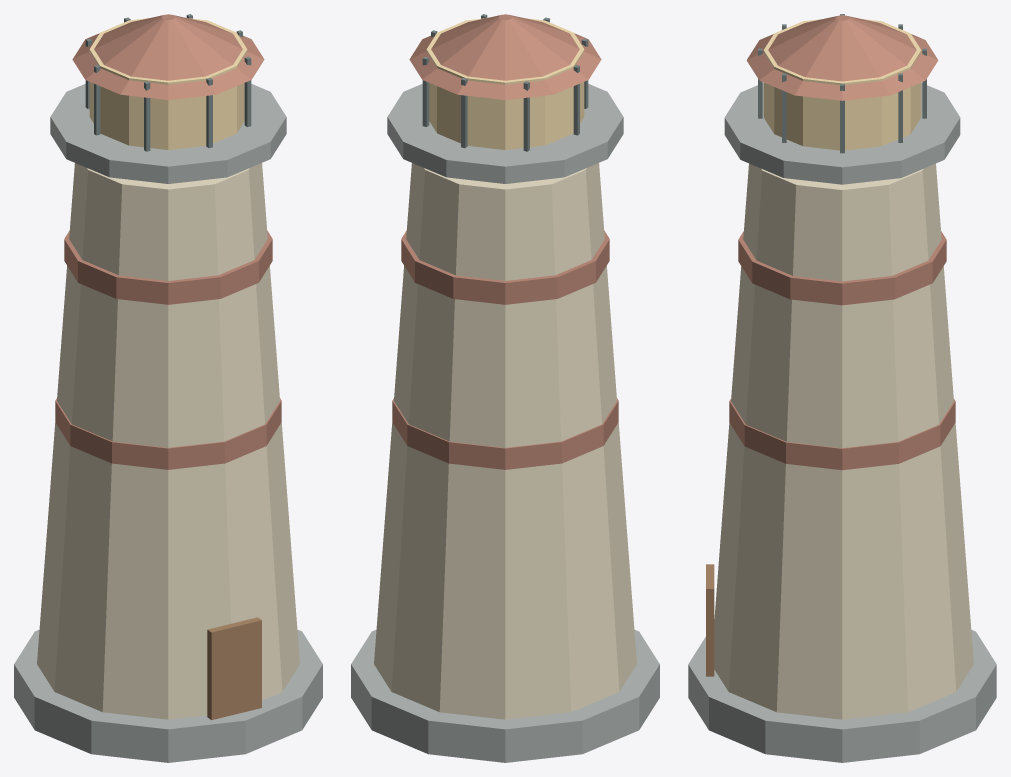
Rendered from lighthouse.glb.
3 views of the same model, side by side, from view 1: azimuth 30°, elevation 25°; view 2: azimuth 150°, elevation 25°; view 3: azimuth 270°, elevation 25° (orthographic).
Visible parts, largest first — view 1: Lighthouse tower, Lighthouse stone base, Beacon cap, Lantern gallery, Beacon glass, Coral lighthouse stripe.002, Coral lighthouse stripe.001, Lighthouse door; view 2: Lighthouse tower, Lighthouse stone base, Beacon cap, Lantern gallery, Beacon glass, Coral lighthouse stripe.002, Coral lighthouse stripe.001; view 3: Lighthouse tower, Lighthouse stone base, Beacon cap, Lantern gallery, Beacon glass, Coral lighthouse stripe.002, Coral lighthouse stripe.001, Lighthouse door.
Boxes of the visible parts, box(x1,y1,x2,y2) form: Lighthouse tower: box(37, 163, 299, 719); Lighthouse stone base: box(14, 629, 322, 762); Beacon cap: box(72, 14, 264, 99); Lantern gallery: box(50, 84, 286, 183); Beacon glass: box(89, 18, 247, 149); Coral lighthouse stripe.002: box(64, 231, 272, 304); Coral lighthouse stripe.001: box(55, 398, 281, 469); Lighthouse door: box(207, 617, 261, 720); Lighthouse tower: box(374, 163, 636, 719); Lighthouse stone base: box(351, 629, 659, 762); Beacon cap: box(409, 14, 601, 99); Lantern gallery: box(387, 84, 623, 183); Beacon glass: box(426, 18, 584, 149); Coral lighthouse stripe.002: box(401, 231, 609, 304); Coral lighthouse stripe.001: box(392, 398, 618, 469); Lighthouse tower: box(714, 163, 973, 719); Lighthouse stone base: box(688, 630, 996, 762); Beacon cap: box(746, 15, 938, 100); Lantern gallery: box(724, 83, 960, 184); Beacon glass: box(763, 19, 921, 150); Coral lighthouse stripe.002: box(738, 231, 946, 305); Coral lighthouse stripe.001: box(729, 398, 955, 470); Lighthouse door: box(706, 564, 714, 676).
Bounding box in the file's own units: 4.5 × 10.94 × 4.5.
